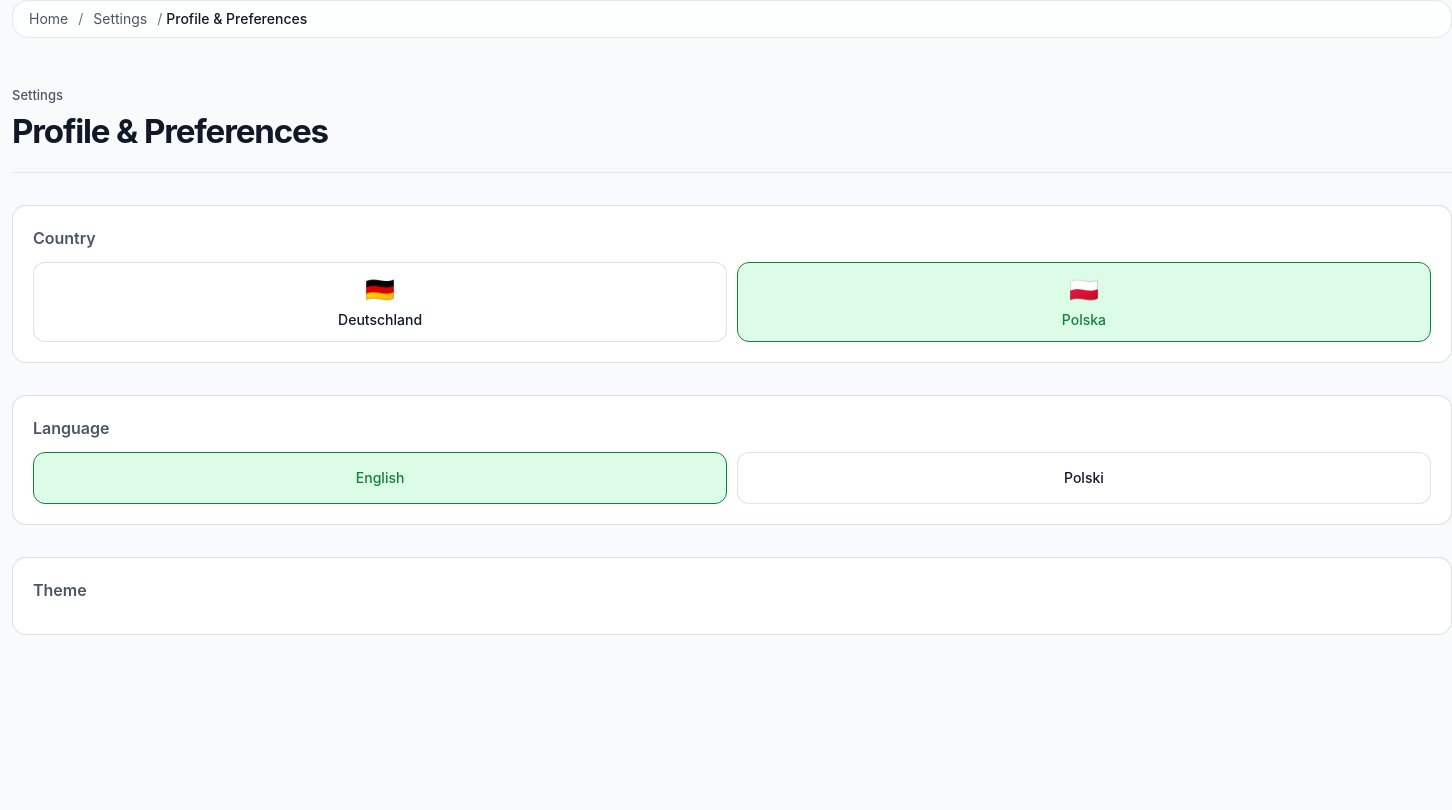
Scenario: ProfileSettingsPage › shows save button after changing country
What coordinates should you click on to do the following:
click the text "Deutschland"
I would click on:
 (380, 320)
Its box is top-left (338, 311), bottom-right (422, 328).
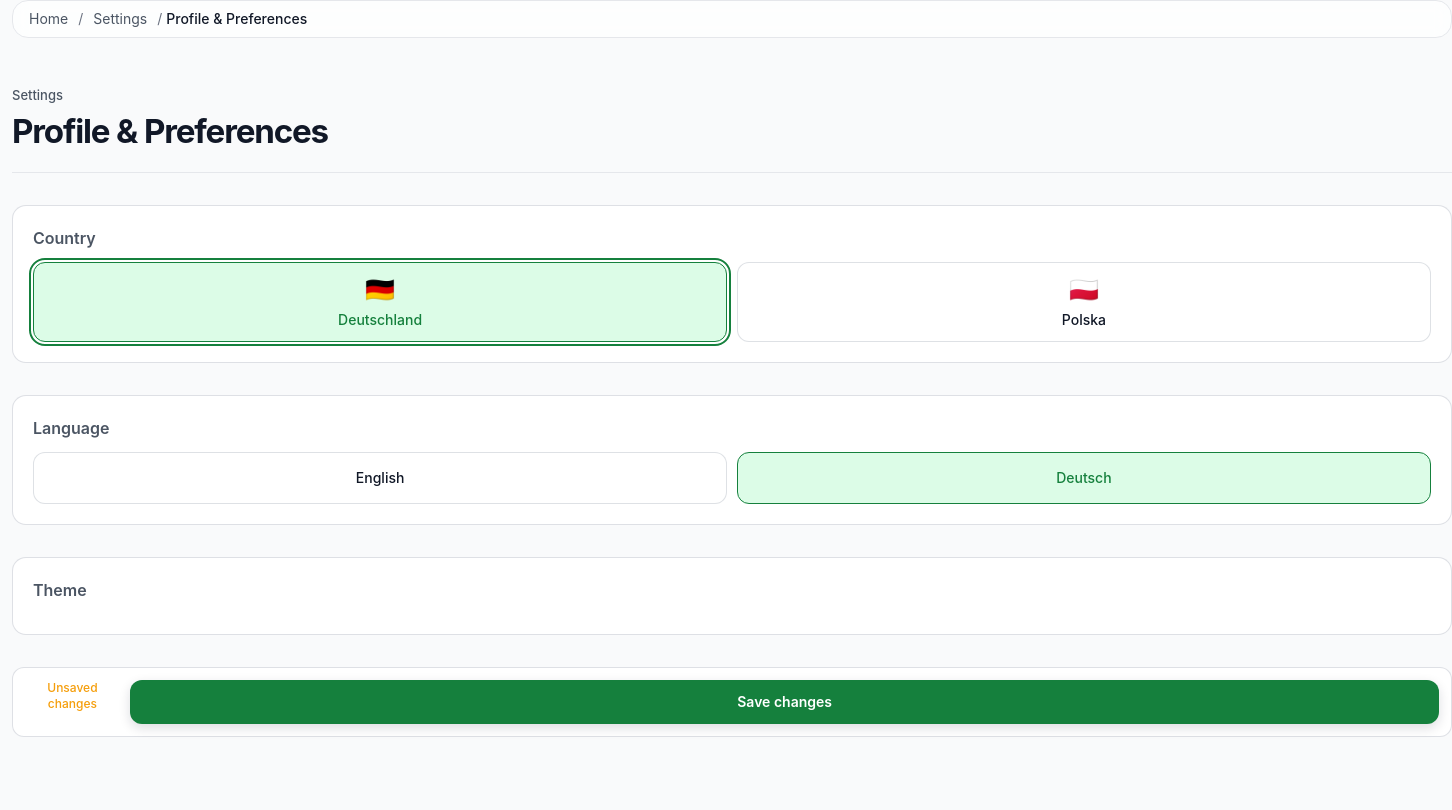
expect the button "Save changes" is shown: met, box top-left (130, 680), bottom-right (1439, 724)
